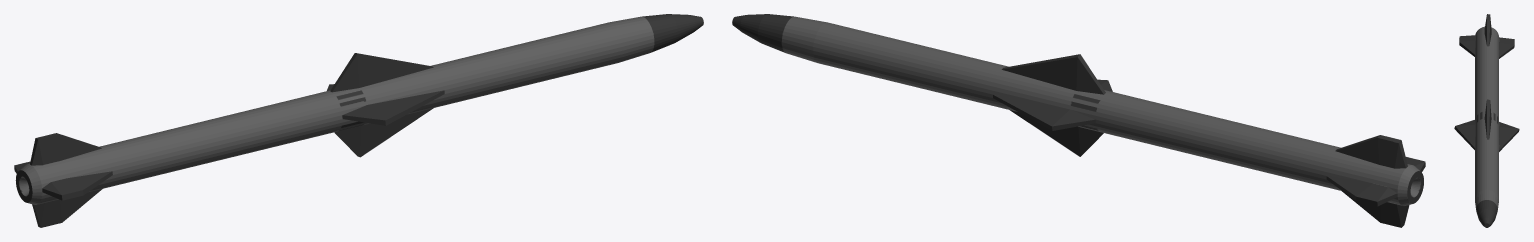
File: Missle.fbx
The picture shows the model from 3 angles, left to right: view 1: azimuth 30°, elevation 25°; view 2: azimuth 150°, elevation 25°; view 3: azimuth 270°, elevation 25°; orthographic projection. The views are drawn at different scales.
Visible parts, largest first — view 1: Cylinder; view 2: Cylinder; view 3: Cylinder.
Part boxes in pixels (x1,y1,x2,y2): Cylinder: (14,14,703,227); Cylinder: (732,14,1425,227); Cylinder: (1454,14,1519,227).
Size of the model in its own units: 22.39 by 3.24 by 3.24.
